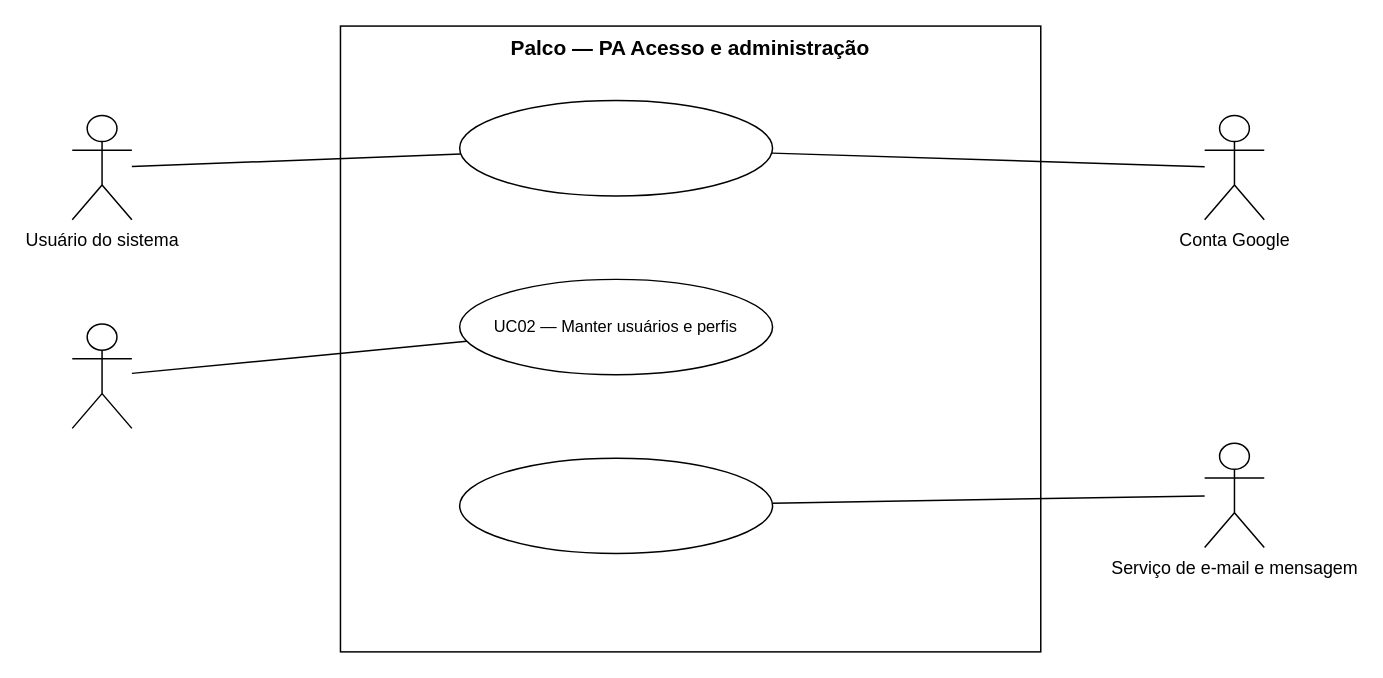
Image size: 1383x678. Some labels were removed from this diagram. Each missing label, with the box of its shape:
Dono: (71, 323, 132, 428)
UC01 — Autenticar no sistema: (458, 99, 773, 196)
UC43 — Notificar por e-mail e mensagem: (458, 457, 773, 554)
